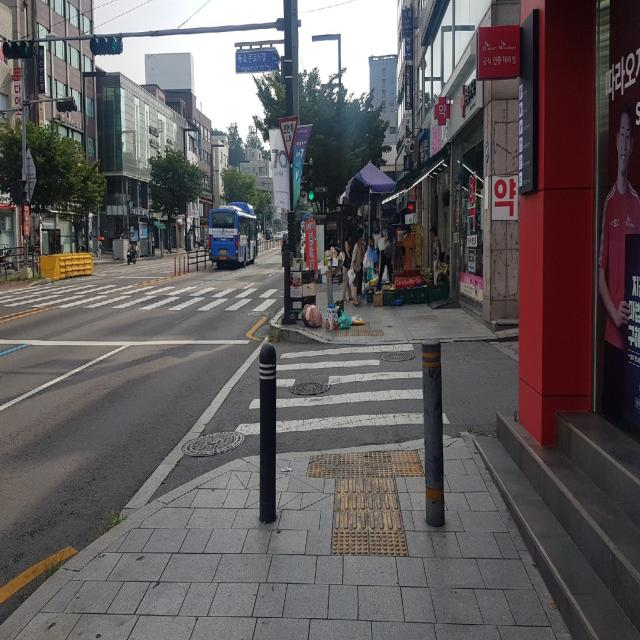횡단보도: (234, 342, 452, 437), (0, 264, 287, 324)
